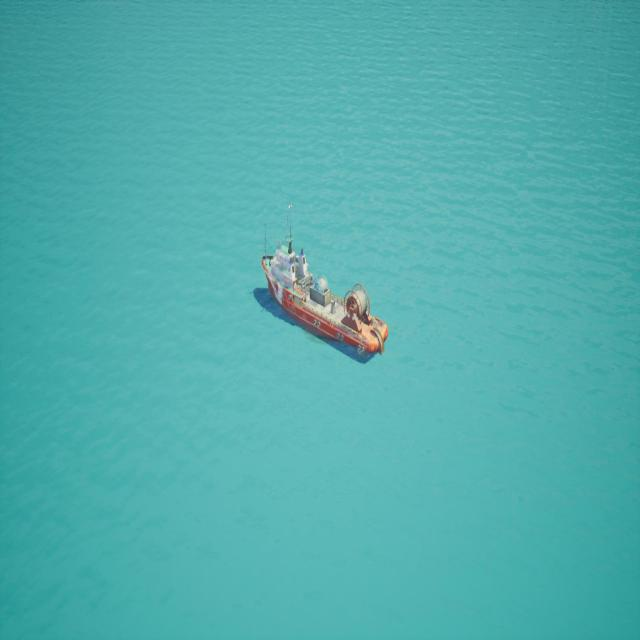tug boat: (257, 214, 389, 367)
